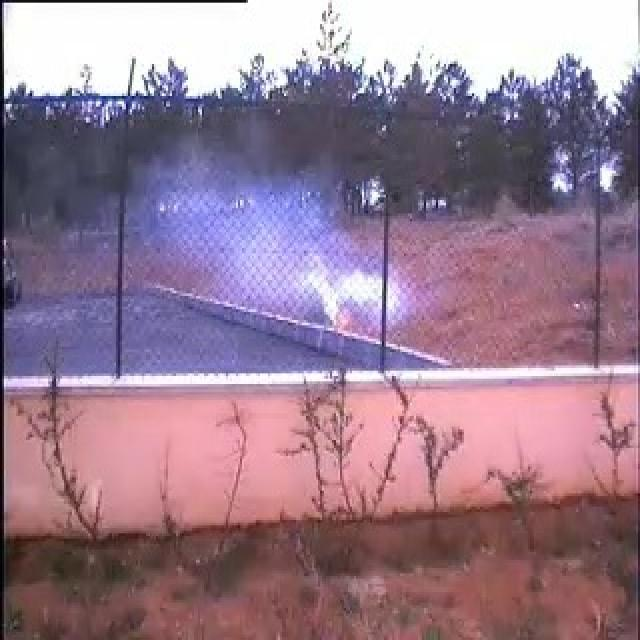smoke: (127, 147, 399, 361)
